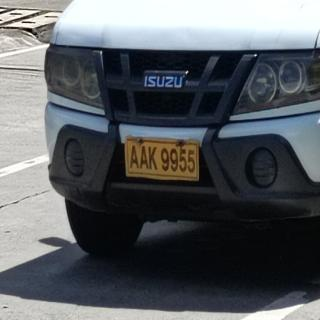license: (126, 138, 200, 181)
